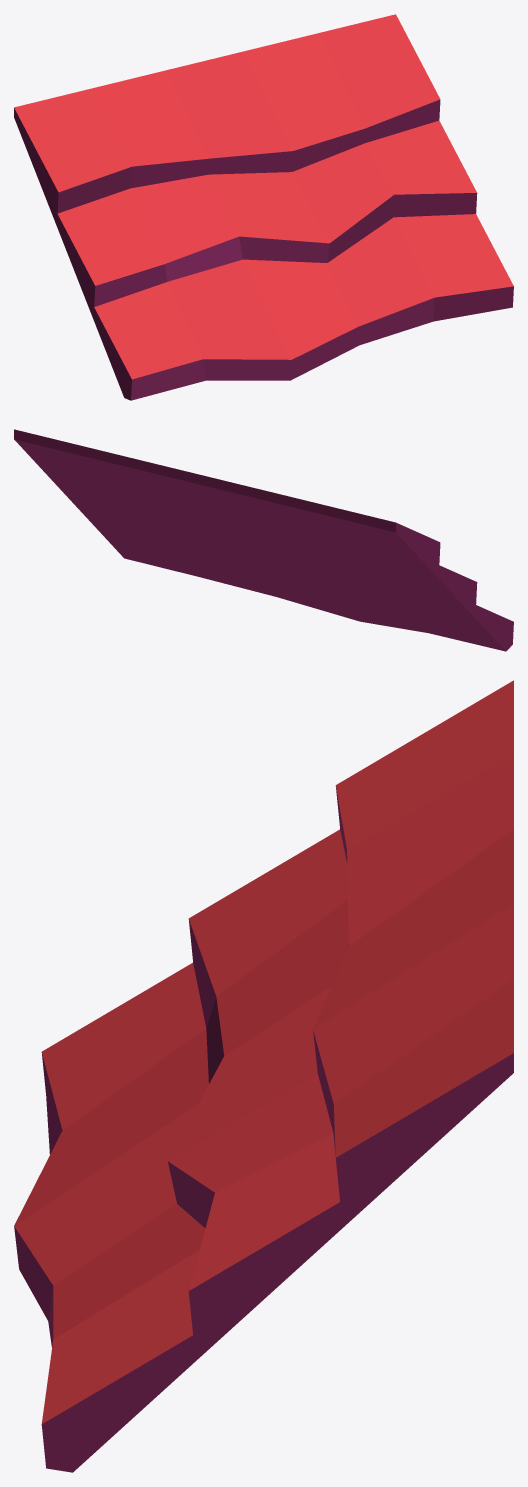
Rendered from Roof 01 Mid Angle 2.fbx.
The picture shows the model from 3 angles, top to bottom: view 1: azimuth 30°, elevation 25°; view 2: azimuth 150°, elevation 25°; view 3: azimuth 270°, elevation 25°; orthographic projection. The views are drawn at different scales.
Visible parts, largest first — view 1: Roof 01 Mid Angle 2; view 2: Roof 01 Mid Angle 2; view 3: Roof 01 Mid Angle 2.
Boxes of the visible parts, x1,y1,x2,y2 form: Roof 01 Mid Angle 2: (14,14,513,400); Roof 01 Mid Angle 2: (14,429,513,651); Roof 01 Mid Angle 2: (14,680,513,1472).
Size of the model in its own units: 400 by 222 by 227.
